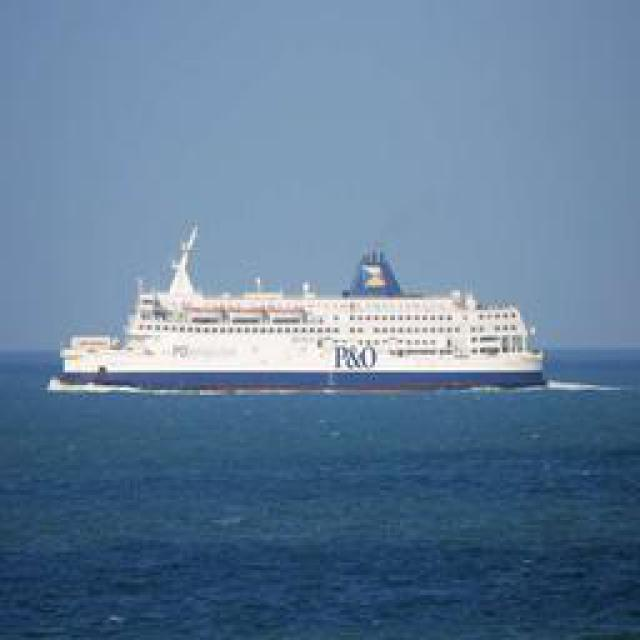Ship: (55, 224, 550, 394)
